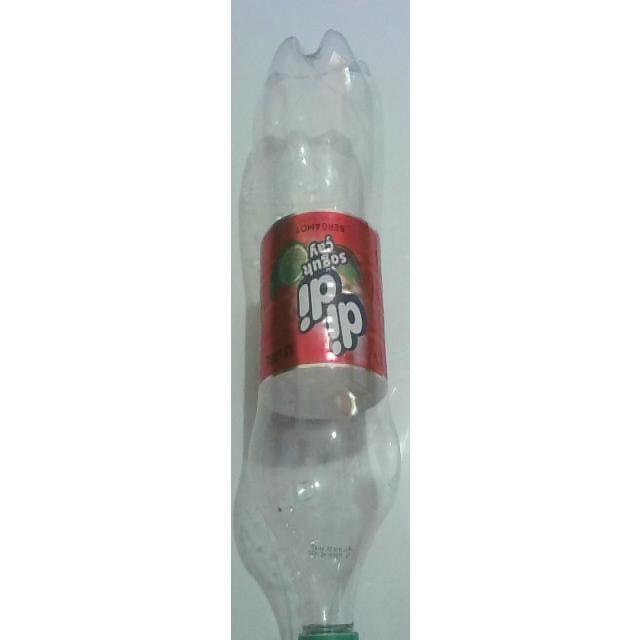bottle: (247, 29, 404, 640)
